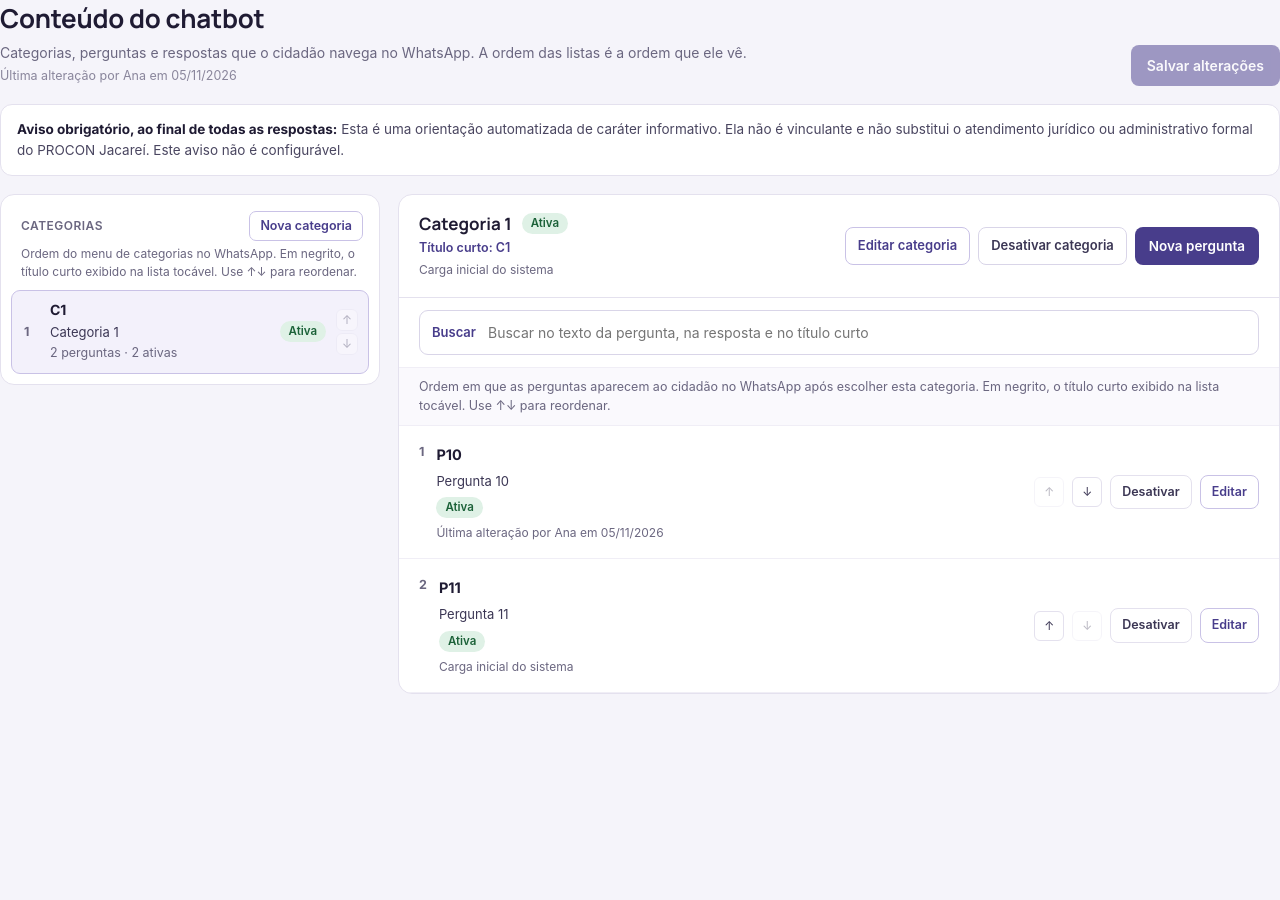
ContentPage › o painel lateral mostra a categoria e a última alteração ao editar uma pergunta
Expected: the heading "Categorias" is shown, [21, 217, 103, 235]
Expected: the text "P10" is shown, [436, 446, 462, 463]
Click the button with aria-label "Editar P10": click(1229, 492) [1200, 475, 1259, 510]
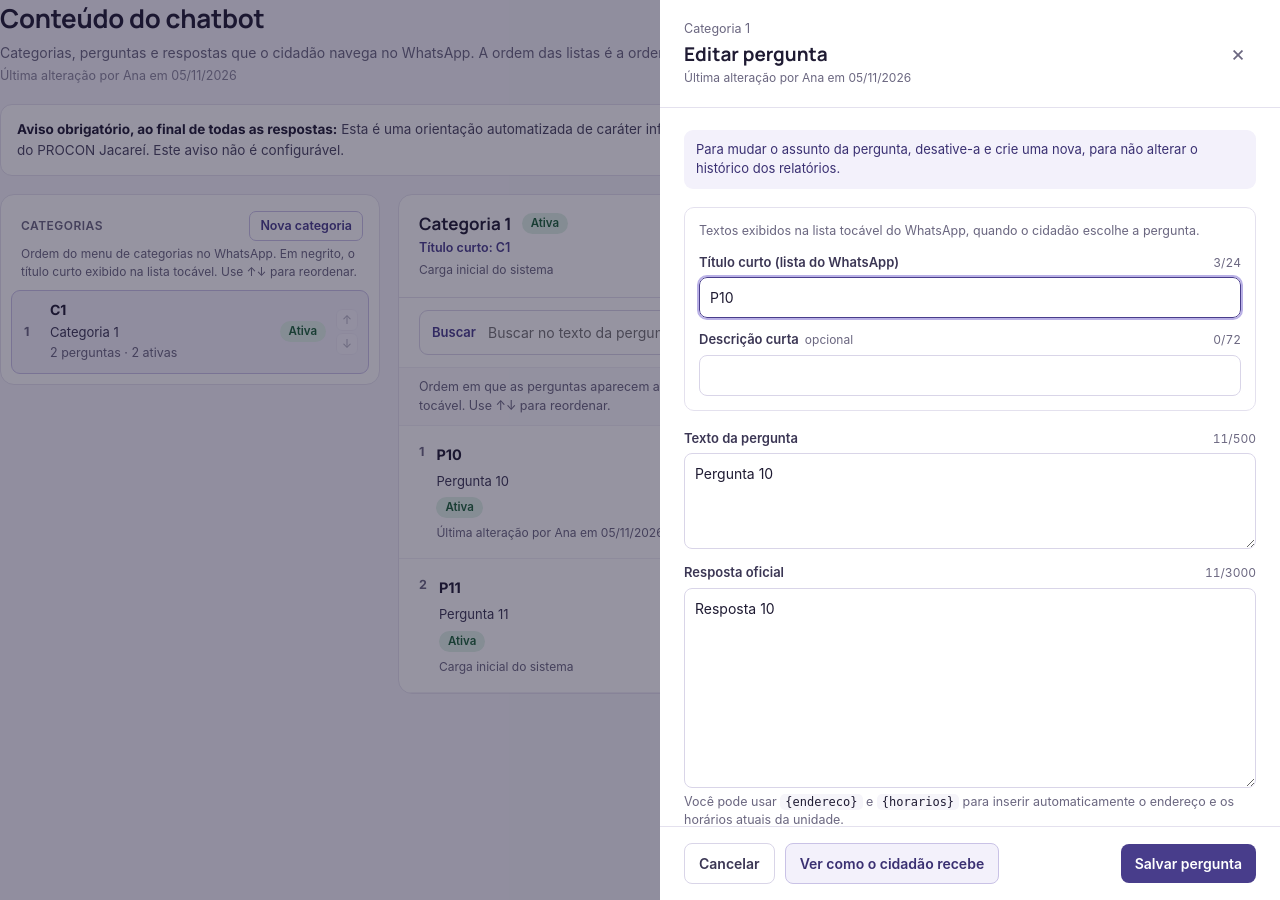
Now the text "Categoria 1" is shown, box [684, 21, 750, 36]
Now the text "Última alteração por Ana em 05/11/2026" is shown, box [684, 69, 911, 87]
